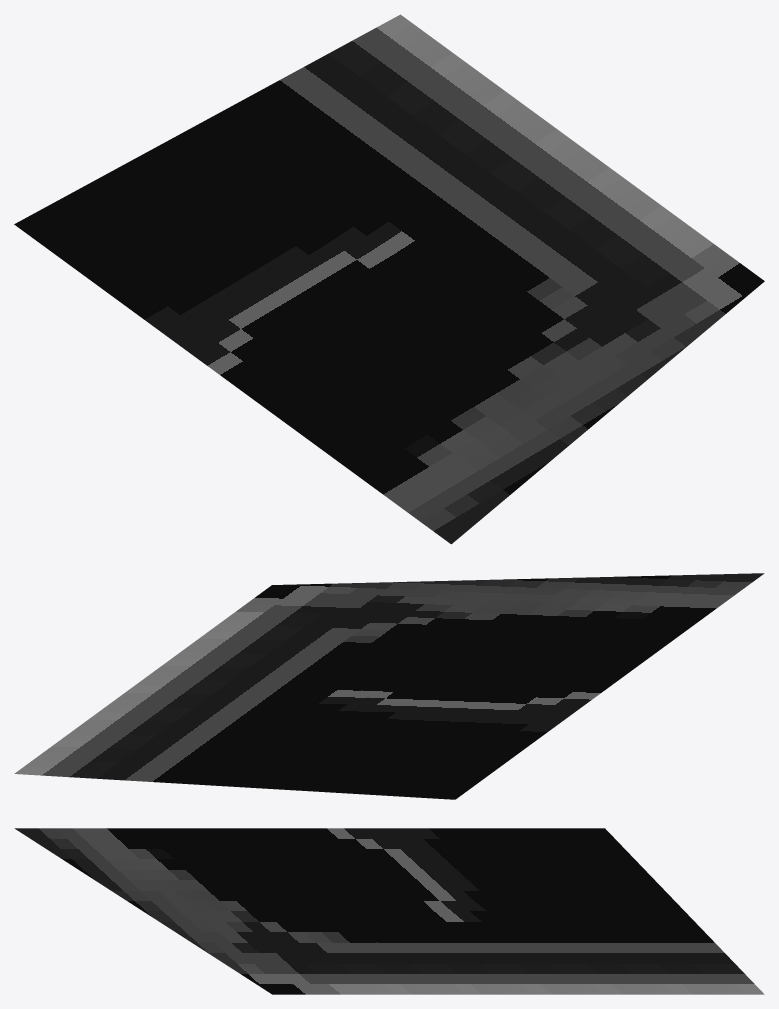
File: secondary_037.glb
3 views of the same model, one above another, from view 1: azimuth 30°, elevation 25°; view 2: azimuth 150°, elevation 25°; view 3: azimuth 270°, elevation 25° (orthographic). The views are drawn at different scales.
Visible parts, largest first — view 1: Object; view 2: Object; view 3: Object.
Part boxes in pixels (bbox=[...]): Object: bbox=[14, 14, 764, 544]; Object: bbox=[14, 573, 764, 799]; Object: bbox=[14, 828, 764, 994].
Size of the model in its own units: 0.0362 by 0 by 0.069.
1 material, 1 textured.
